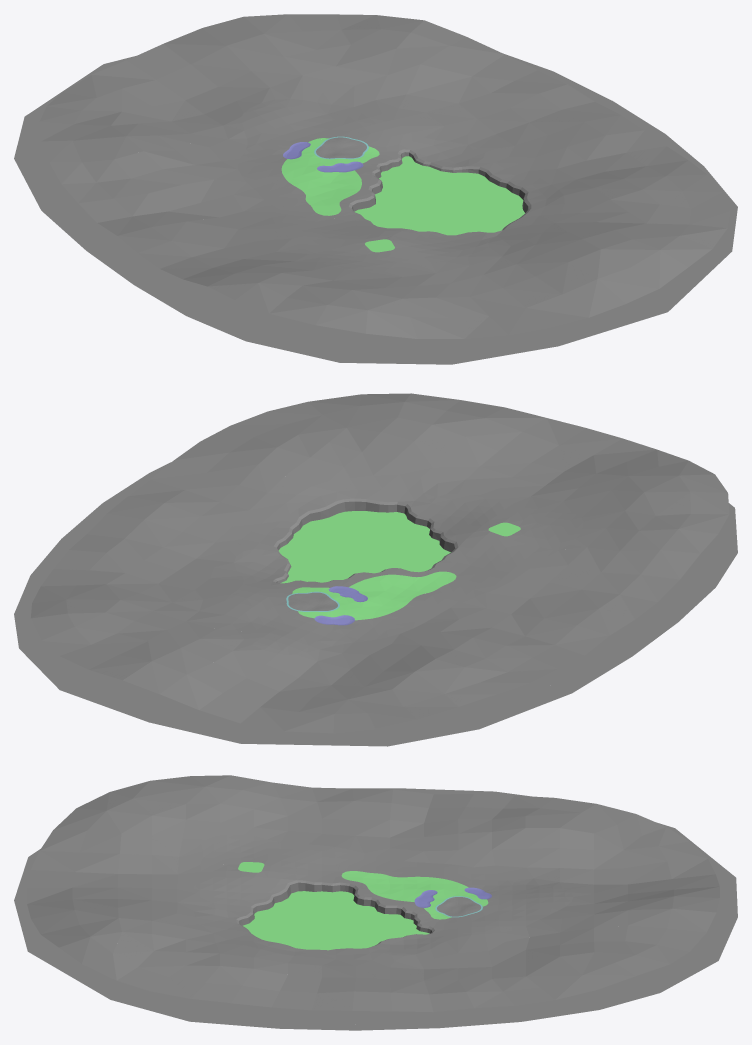
The model's file is glf_course_fc3.glb.
The picture shows the model from 3 angles, top to bottom: view 1: azimuth 30°, elevation 25°; view 2: azimuth 150°, elevation 25°; view 3: azimuth 270°, elevation 25°; orthographic projection. The views are drawn at different scales.
Visible parts, largest first — view 1: collision_0x0004, collision_0x0005, collision_0x0002, collision_0x0007, collision_0x0001, collision_0x000c, collision_0x0006, collision_0x0003; view 2: collision_0x0004, collision_0x0005, collision_0x0002, collision_0x0007, collision_0x0001, collision_0x000c, collision_0x0006, collision_0x0003; view 3: collision_0x0004, collision_0x0005, collision_0x0002, collision_0x0007, collision_0x0001, collision_0x000c, collision_0x0006, collision_0x0003.
Part boxes in pixels (x1,y1,x2,y2): collision_0x0004: (39,14,730,338); collision_0x0005: (14,53,737,364); collision_0x0002: (238,99,495,272); collision_0x0007: (354,156,524,235); collision_0x0001: (281,138,394,252); collision_0x000c: (348,149,531,230); collision_0x0006: (316,137,366,158); collision_0x0003: (283,142,363,172); collision_0x0004: (30,393,729,733); collision_0x0005: (14,462,737,746); collision_0x0002: (222,493,583,654); collision_0x0007: (278,511,450,583); collision_0x0001: (292,522,520,620); collision_0x000c: (273,498,458,582); collision_0x0006: (288,592,337,610); collision_0x0003: (314,586,367,625); collision_0x0004: (27,775,719,1012); collision_0x0005: (14,788,737,1030); collision_0x0002: (193,834,573,955); collision_0x0007: (243,891,429,950); collision_0x0001: (238,862,488,919); collision_0x000c: (236,880,434,947); collision_0x0006: (437,897,480,916); collision_0x0003: (414,887,491,907).
Size of the model in its own units: 3373 by 193 by 4259.
